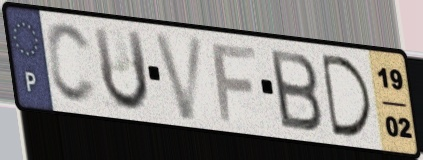B: (266, 46, 325, 134)
C: (44, 21, 99, 108)
D: (318, 51, 376, 140)
F: (209, 42, 259, 124)
U: (91, 24, 152, 115)
V: (151, 30, 208, 123)
